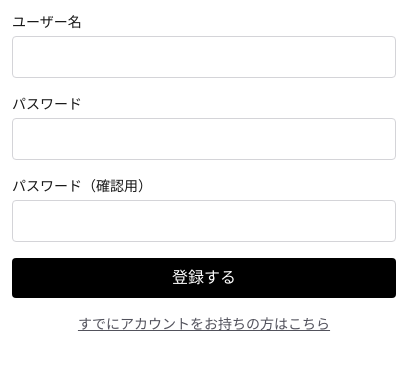
Test case: SignupForm › ユーザー名が不正な形式だと、APIを呼ばずにエラーを表示する
The width and height of the screenshot is (414, 384).
Step 1. Type "a" into the field labelled "ユーザー名" → (204, 57), box [12,36,396,78]
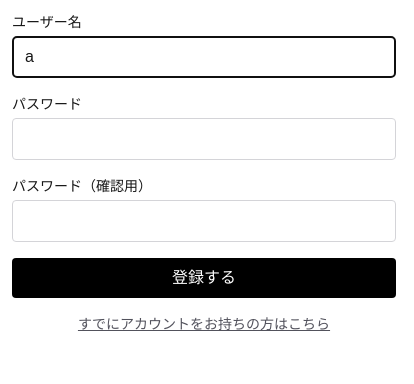
Step 2. Type "password123" into the password field labelled "パスワード" → (204, 139), box [12,118,396,160]
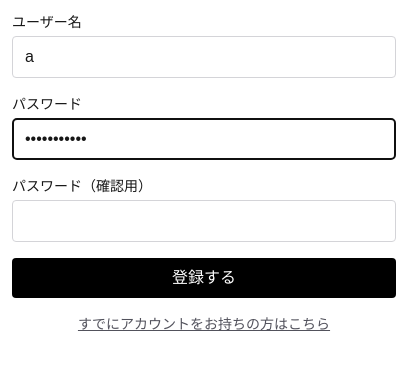
Step 3. Type "password123" into the password field labelled "パスワード（確認用）" → (204, 221), box [12,200,396,242]
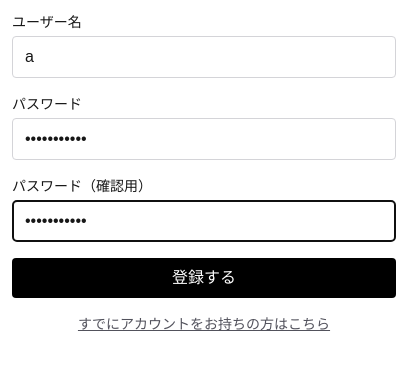
Step 4. Click the button "登録する" → (204, 278), box [12,258,396,298]
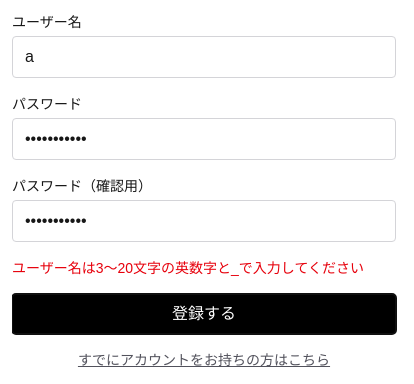
Now the text "ユーザー名は3〜20文字の英数字と_で入力してください" is shown, box [12,258,396,278]
